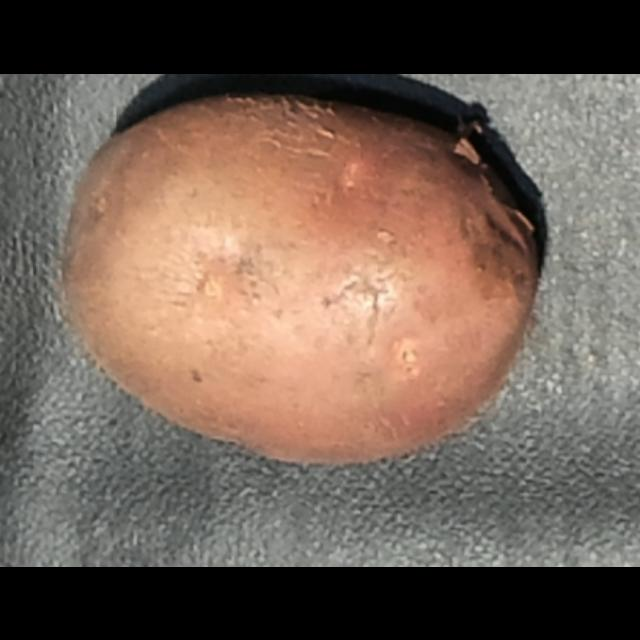Diseased-fungal potato: (42, 74, 564, 472)
